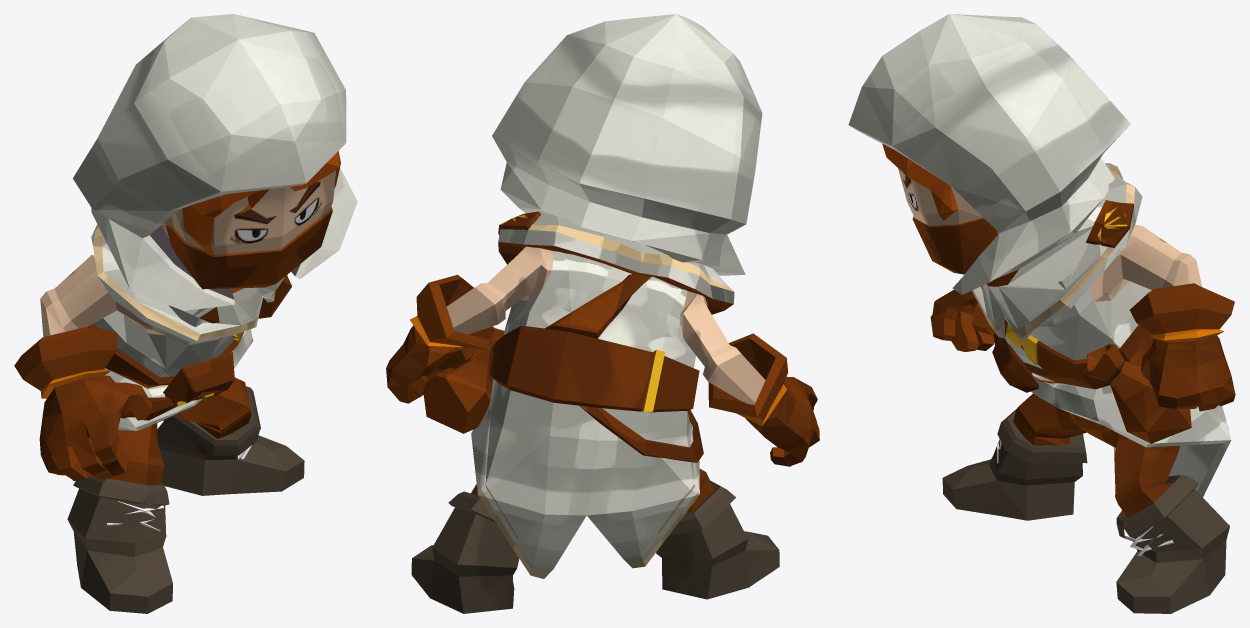
File: SK_Lowpoly_25.gltf
3 renders of one model, left to right at view 1: azimuth 30°, elevation 25°; view 2: azimuth 150°, elevation 25°; view 3: azimuth 270°, elevation 25°, orthographic. The views are drawn at different scales.
Parts seen in each view (by area): view 1: SK_Lowpoly_Male_025_Pose_9_StaticMeshComponent0; view 2: SK_Lowpoly_Male_025_Pose_9_StaticMeshComponent0; view 3: SK_Lowpoly_Male_025_Pose_9_StaticMeshComponent0.
Boxes of the visible parts, box(x1,y1,x2,y2) form: SK_Lowpoly_Male_025_Pose_9_StaticMeshComponent0: box(14, 14, 357, 613); SK_Lowpoly_Male_025_Pose_9_StaticMeshComponent0: box(386, 14, 819, 613); SK_Lowpoly_Male_025_Pose_9_StaticMeshComponent0: box(848, 14, 1235, 613).
Bounding box in the file's own units: 0.3439 × 0.5278 × 0.3534.
Materials: 1 (1 with a texture image).
